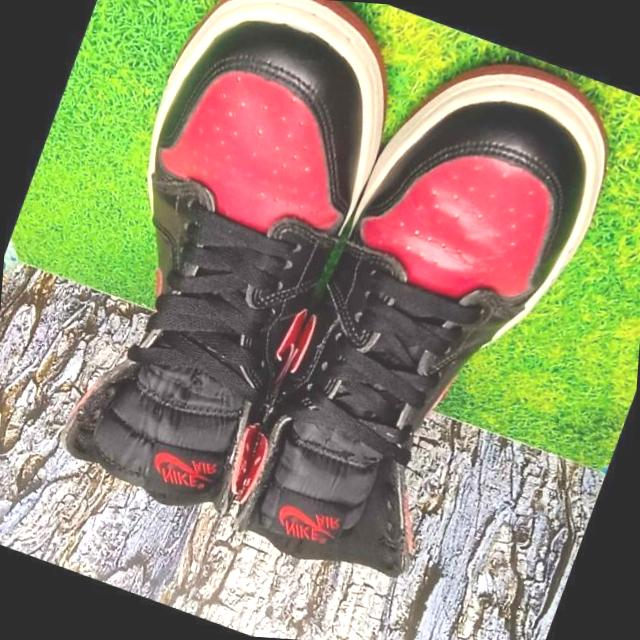nike_fake_jordan: (221, 9, 638, 622), (14, 0, 423, 553)
